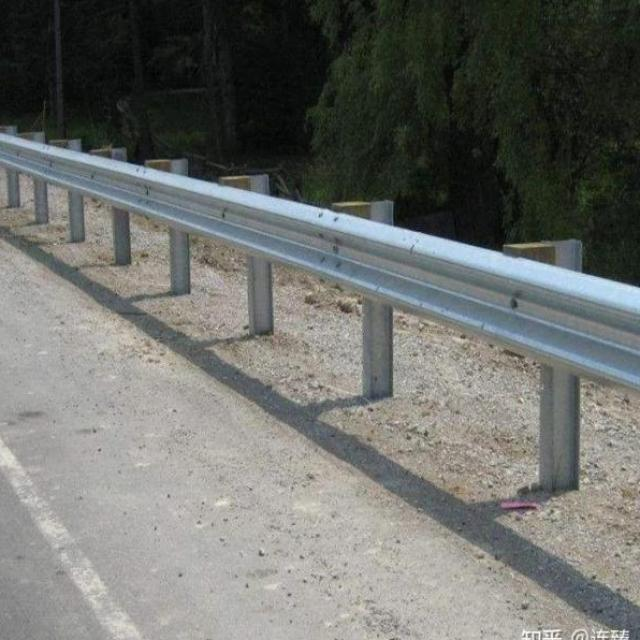Guard rail: (0, 134, 640, 391)
